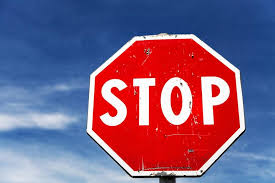stop_sign: (86, 33, 246, 176)
